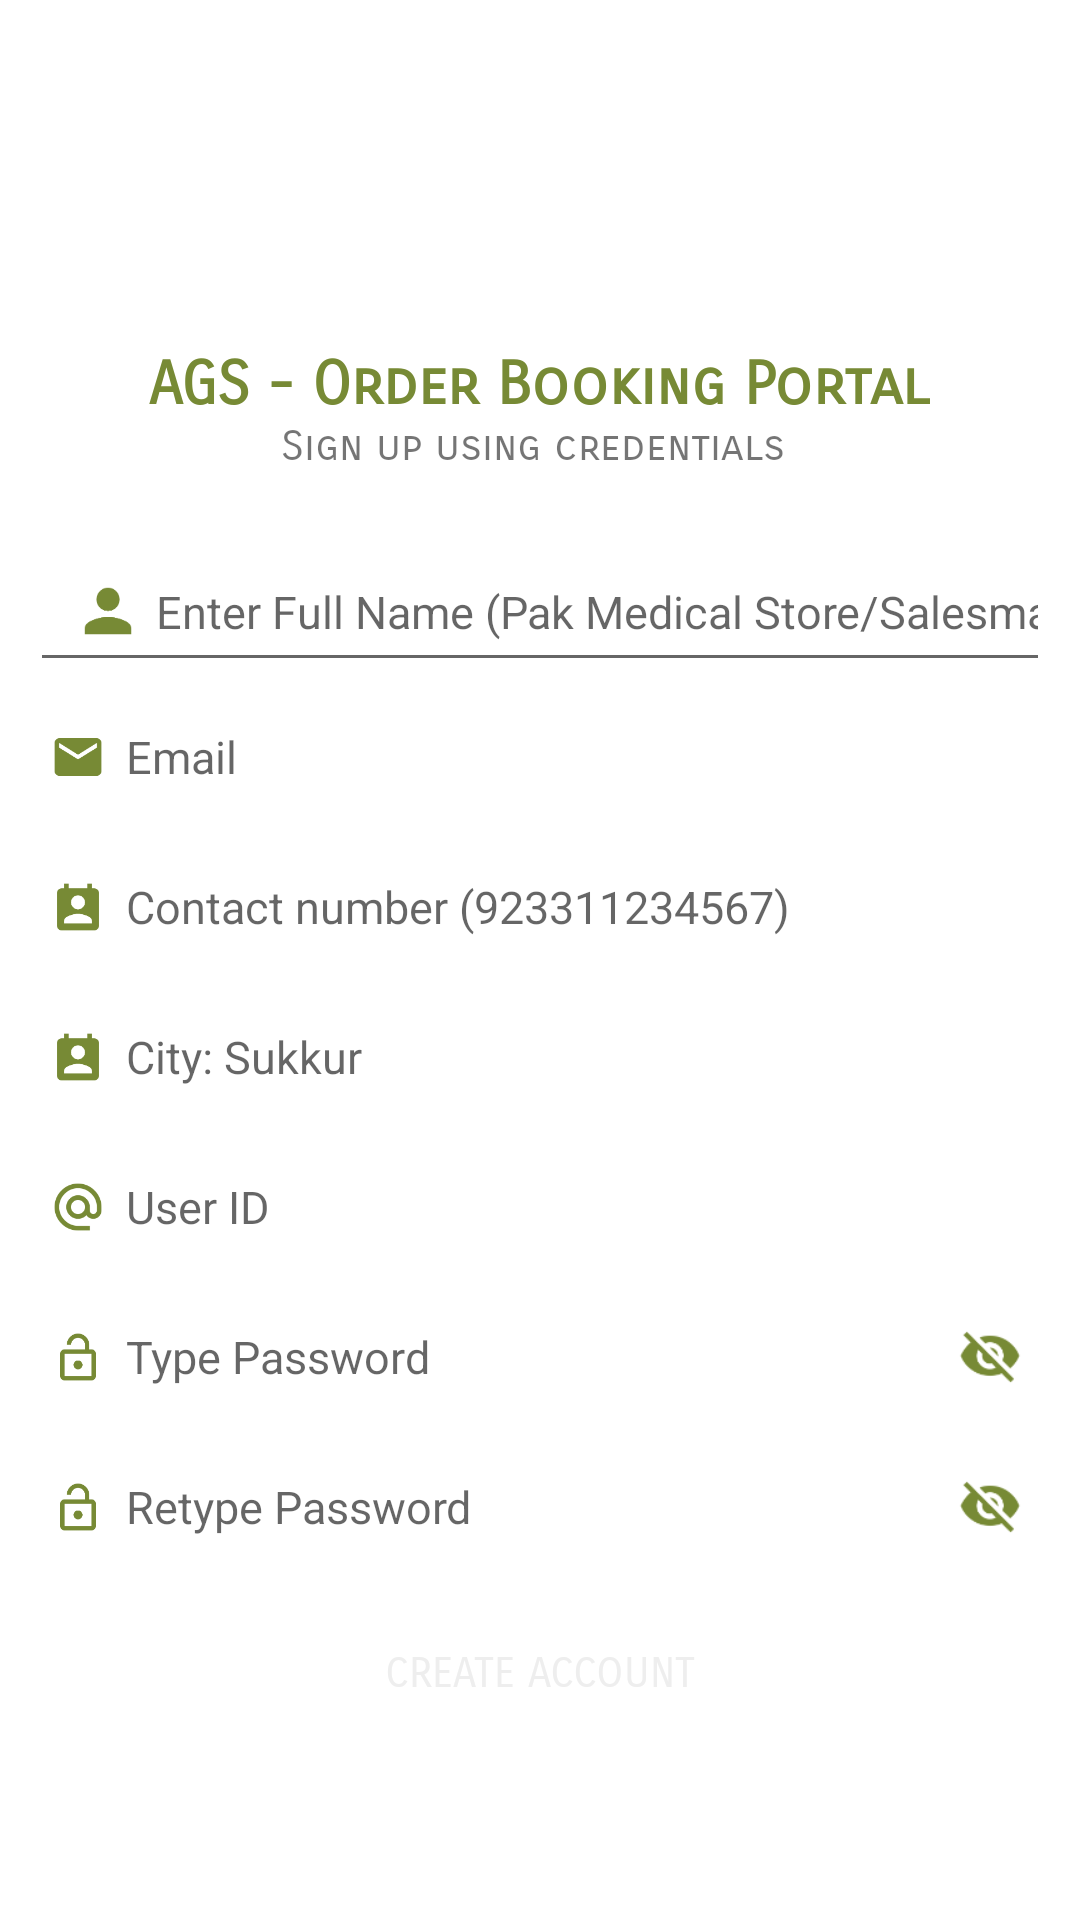

Icon bounding boxes for this 1080w x 1920h phone screenshot, format (x1, y1, x2, y2):
hide: (960, 1332, 1020, 1382), (960, 1482, 1020, 1532)
